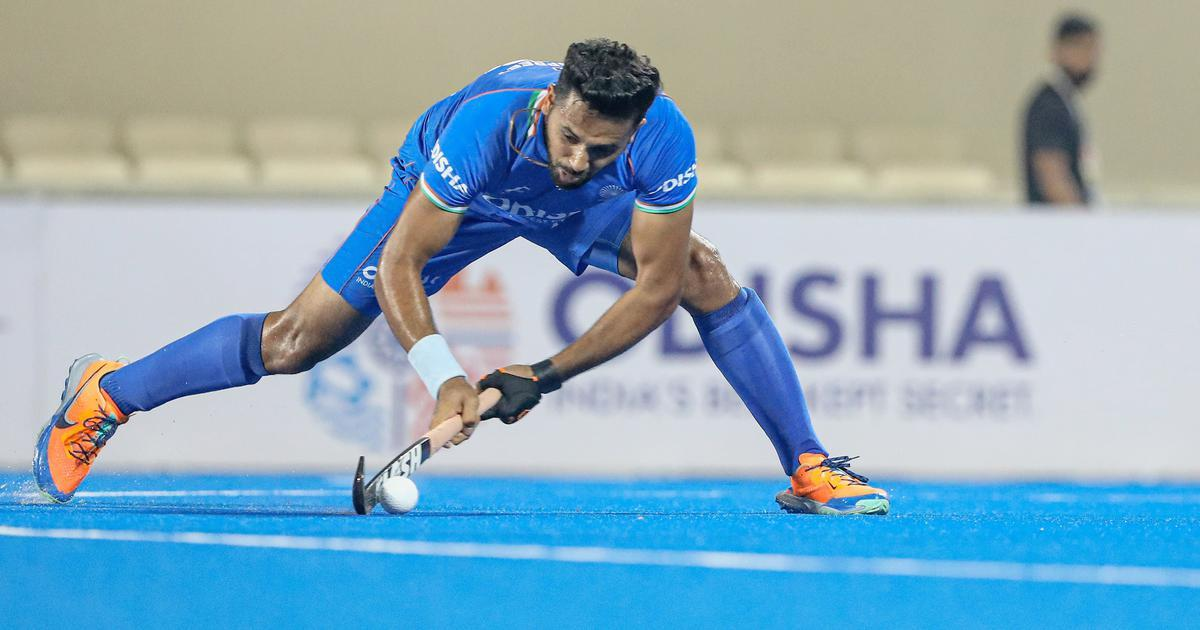ball: (380, 463, 446, 529)
